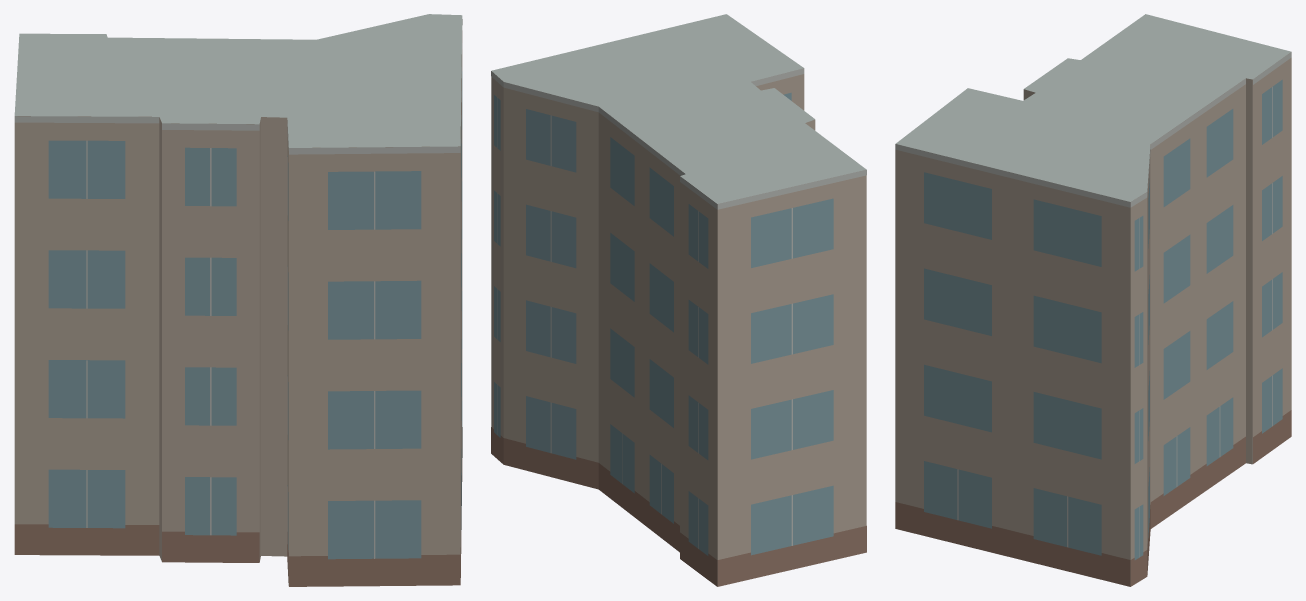
File: survey-upis-32706612.glb
The picture shows the model from 3 angles, left to right: view 1: azimuth 30°, elevation 25°; view 2: azimuth 150°, elevation 25°; view 3: azimuth 270°, elevation 25°; orthographic projection. The views are drawn at different scales.
Parts seen in each view (by area): view 1: survey-upis-32706612.tmp; view 2: survey-upis-32706612.tmp; view 3: survey-upis-32706612.tmp.
Boxes of the visible parts, left/top/right/bottom form: survey-upis-32706612.tmp: left=14, top=14, right=462, bottom=586; survey-upis-32706612.tmp: left=491, top=14, right=866, bottom=586; survey-upis-32706612.tmp: left=895, top=14, right=1291, bottom=586.
Bounding box in the file's own units: 17.08 × 16.3 × 15.21.
